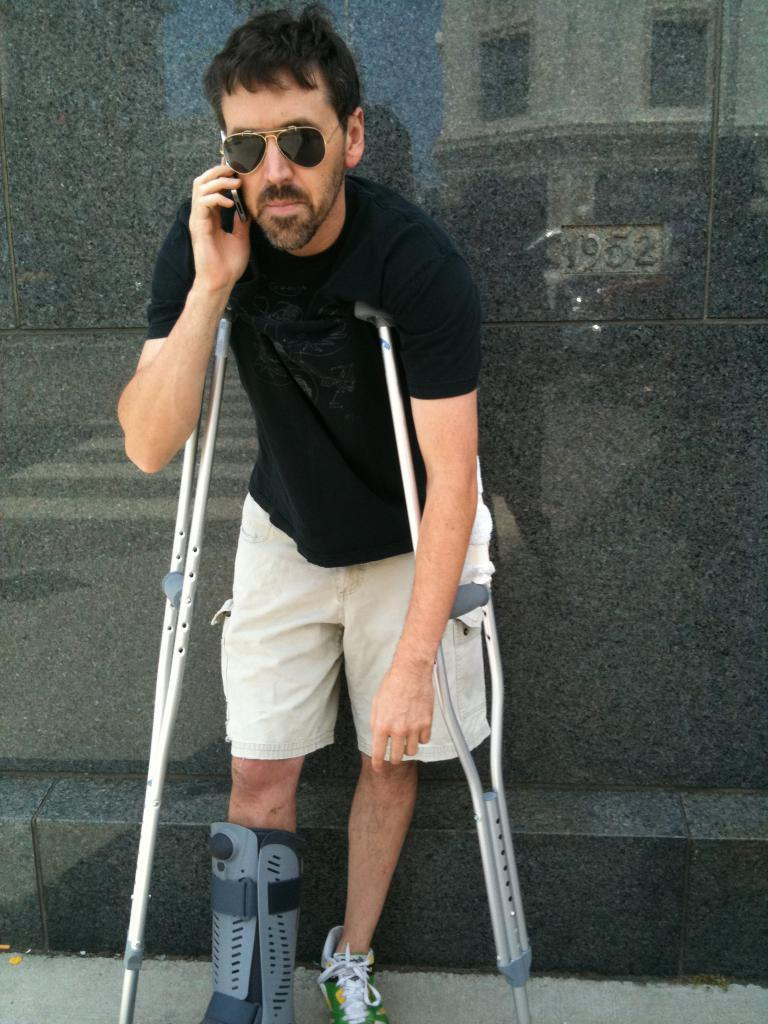crutches: (108, 0, 545, 1024)
